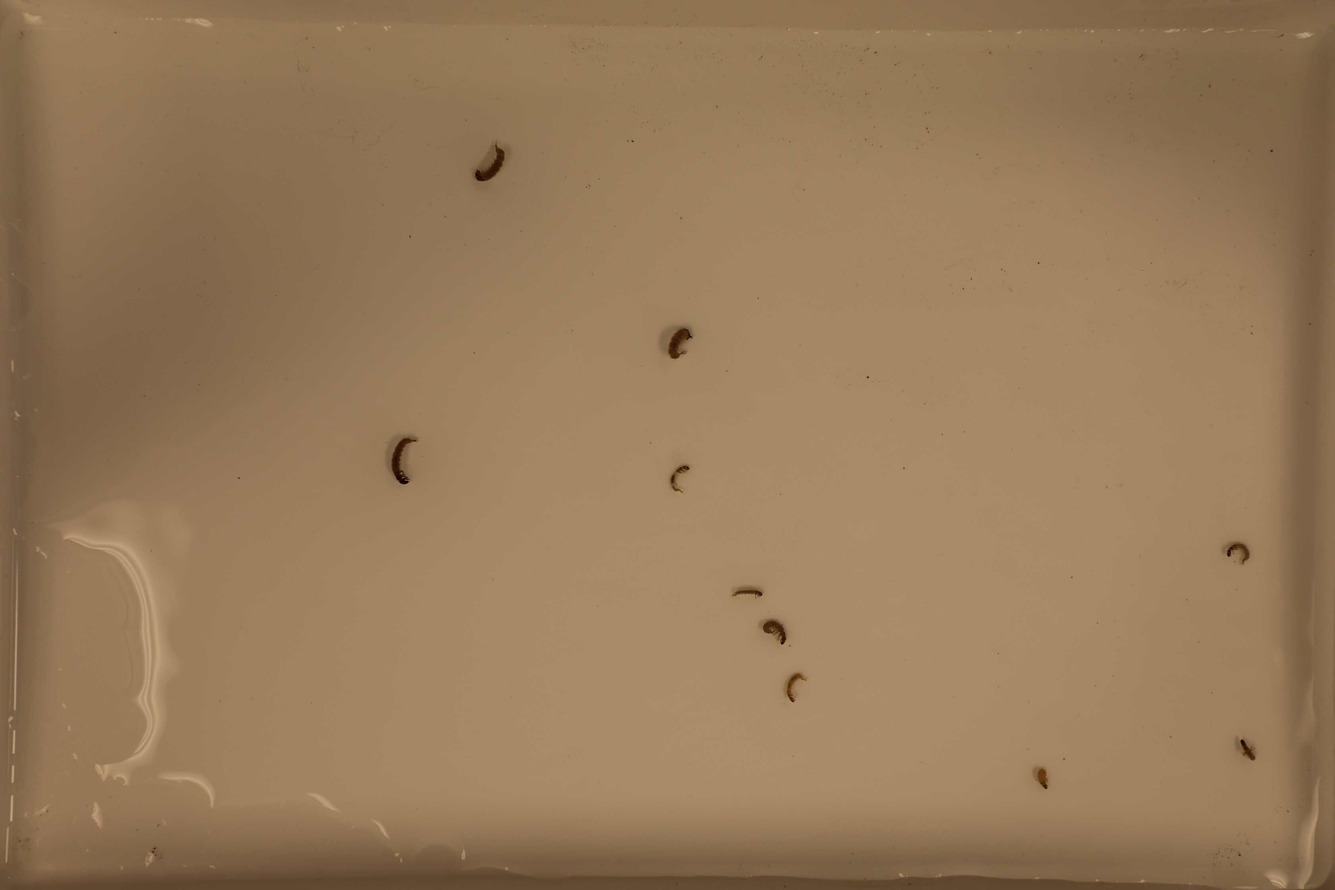Cadisfly: (471, 139, 505, 187), (390, 431, 418, 487), (665, 322, 695, 360), (758, 618, 791, 646), (781, 672, 806, 705), (1222, 540, 1255, 565), (728, 583, 766, 604), (667, 462, 690, 495), (1233, 735, 1258, 765), (1032, 768, 1052, 791)
